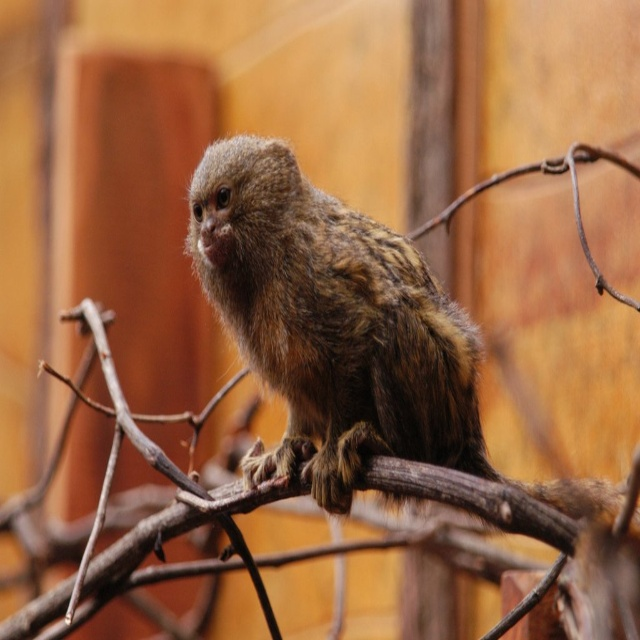Monkey: (184, 152, 528, 546)
